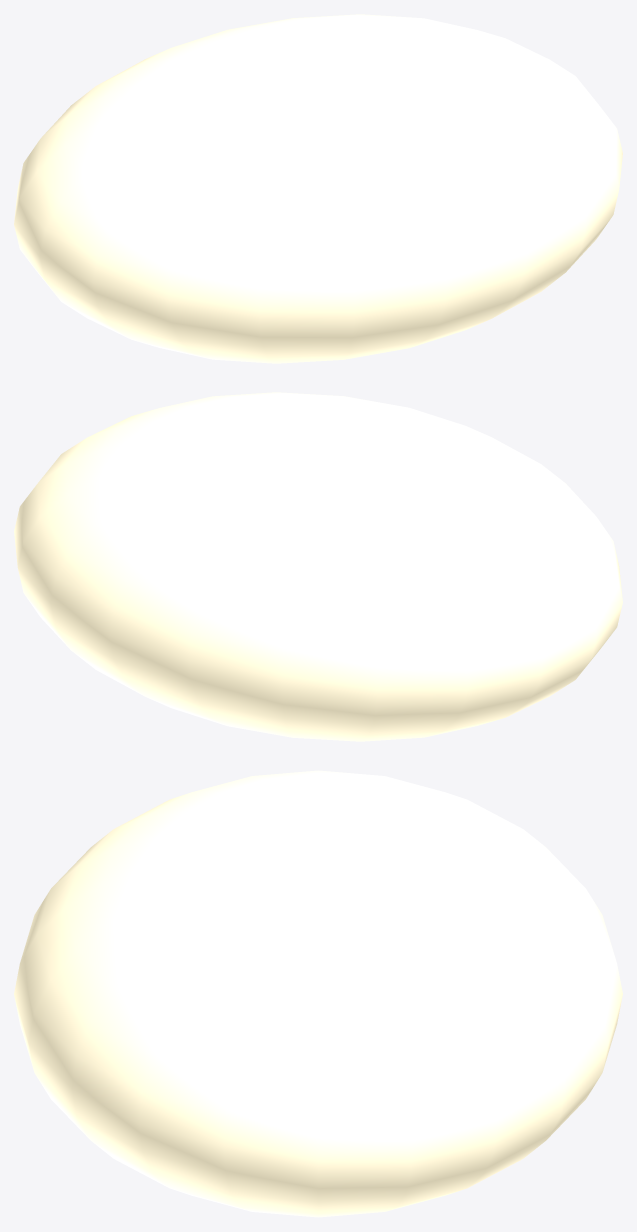
The model's file is SM_Momo_GooBurst.glb.
The picture shows the model from 3 angles, top to bottom: view 1: azimuth 30°, elevation 25°; view 2: azimuth 150°, elevation 25°; view 3: azimuth 270°, elevation 25°; orthographic projection. The views are drawn at different scales.
Visible parts, largest first — view 1: SM_Momo_GooBurst; view 2: SM_Momo_GooBurst; view 3: SM_Momo_GooBurst.
Boxes of the visible parts, bbox=[...] form: SM_Momo_GooBurst: bbox=[14, 14, 622, 363]; SM_Momo_GooBurst: bbox=[14, 392, 622, 741]; SM_Momo_GooBurst: bbox=[14, 770, 622, 1217].
Bounding box in the file's own units: 0.44 × 0.198 × 0.352.
